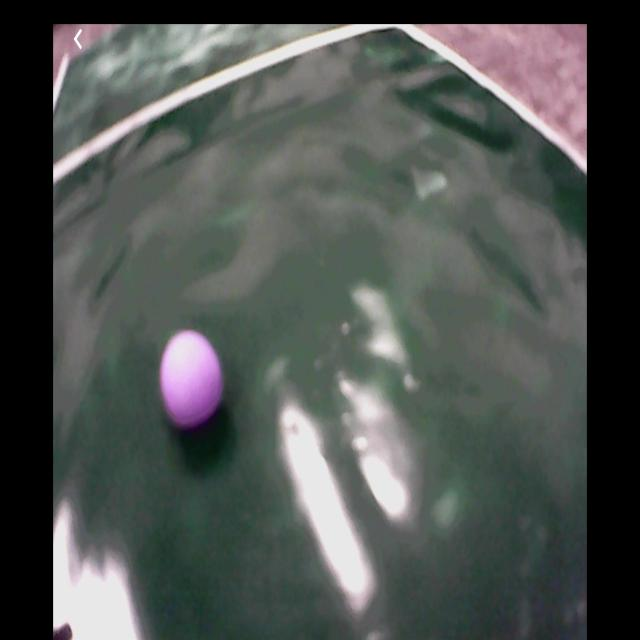ball: (161, 329, 223, 432)
